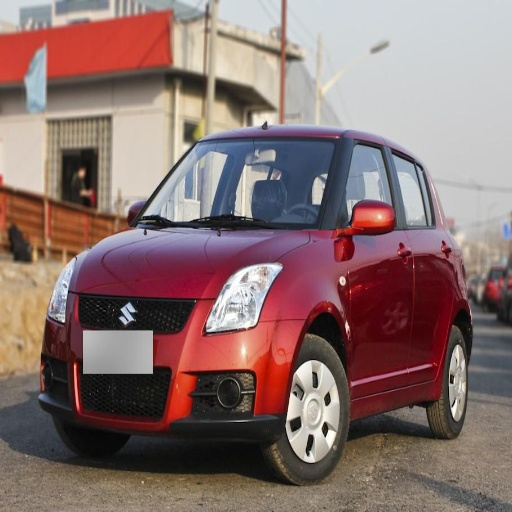front_bumper: (39, 291, 304, 444)
front_glass: (136, 141, 340, 230)
front_left_door: (337, 137, 415, 393)
